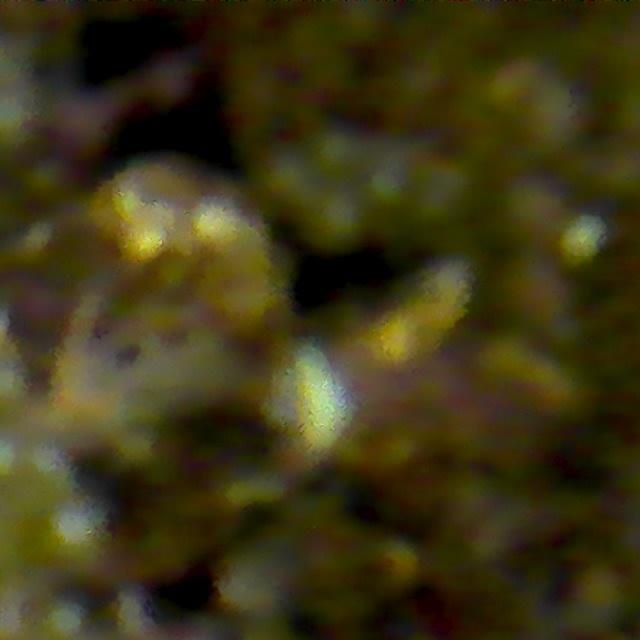SeaGrape: (521, 78, 592, 154), (408, 153, 480, 225), (302, 188, 366, 252), (504, 176, 566, 237)
